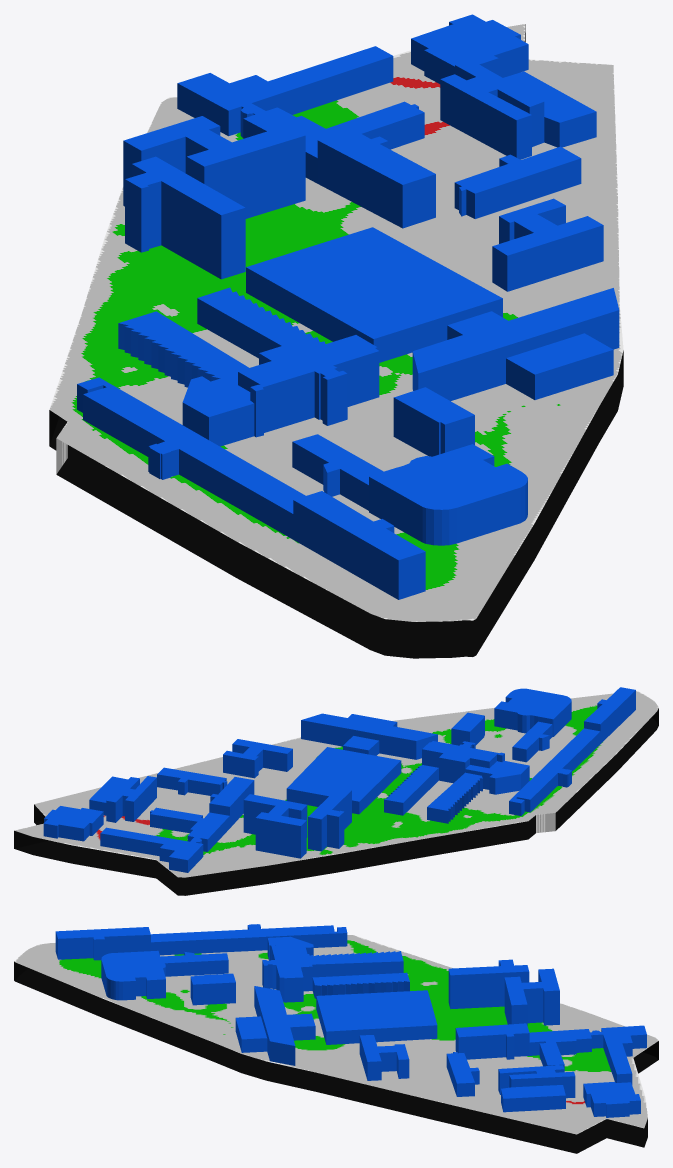
File: Mapa3DConectividad.glb
3 views of the same model, one above another, from view 1: azimuth 30°, elevation 25°; view 2: azimuth 150°, elevation 25°; view 3: azimuth 270°, elevation 25° (orthographic). The views are drawn at different scales.
Parts seen in each view (by area): view 1: Plano.001, Curve.039, Curve.044, Curve.047, Curve.034, Curve.038, Curve.036, Curve.045, Curve.031, Curve.048, Curve.029, Curve.033 (+12 smaller); view 2: Plano.001, Curve.039, Curve.034, Curve.036, Curve.047, Curve.044, Curve.031, Curve.038, Curve.045, Curve.033, Curve.030, Curve.003 (+12 smaller); view 3: Plano.001, Curve.039, Curve.047, Curve.044, Curve.038, Curve.034, Curve.048, Curve.029, Curve.045, Curve.036, Curve.041, Curve.040 (+13 smaller).
Boxes of the visible parts, x1=… form: Plano.001: x1=49, y1=24, x2=623, y2=658; Curve.039: x1=246, y1=227, x2=502, y2=362; Curve.044: x1=369, y1=444, x2=527, y2=545; Curve.047: x1=77, y1=377, x2=305, y2=539; Curve.034: x1=123, y1=116, x2=305, y2=218; Curve.038: x1=125, y1=156, x2=245, y2=279; Curve.036: x1=412, y1=288, x2=619, y2=401; Curve.045: x1=238, y1=335, x2=379, y2=437; Curve.031: x1=177, y1=46, x2=393, y2=136; Curve.048: x1=293, y1=491, x2=425, y2=599; Curve.029: x1=317, y1=128, x2=435, y2=228; Curve.033: x1=492, y1=198, x2=603, y2=291; Plano.001: x1=14, y1=691, x2=658, y2=895; Curve.039: x1=286, y1=747, x2=401, y2=814; Curve.034: x1=243, y1=794, x2=307, y2=858; Curve.036: x1=301, y1=713, x2=437, y2=759; Curve.047: x1=509, y1=728, x2=600, y2=815; Curve.044: x1=494, y1=688, x2=571, y2=736; Curve.031: x1=100, y1=827, x2=203, y2=872; Curve.038: x1=308, y1=787, x2=351, y2=851; Curve.045: x1=422, y1=741, x2=504, y2=783; Curve.033: x1=223, y1=739, x2=292, y2=778; Curve.030: x1=43, y1=806, x2=103, y2=841; Curve.003: x1=106, y1=776, x2=156, y2=822; Plano.001: x1=14, y1=935, x2=658, y2=1153; Curve.039: x1=316, y1=990, x2=437, y2=1044; Curve.047: x1=151, y1=924, x2=347, y2=955; Curve.044: x1=101, y1=950, x2=165, y2=1000; Curve.038: x1=448, y1=959, x2=529, y2=1009; Curve.034: x1=504, y1=968, x2=559, y2=1025; Curve.048: x1=55, y1=927, x2=150, y2=960; Curve.029: x1=455, y1=1023, x2=529, y2=1059; Curve.045: x1=262, y1=943, x2=312, y2=1002; Curve.036: x1=254, y1=986, x2=295, y2=1065; Curve.041: x1=310, y1=951, x2=403, y2=977; Curve.040: x1=312, y1=972, x2=409, y2=998.
Bounding box in the file's own units: 2.6 × 0.3154 × 3.44.
3 materials, 1 textured.
